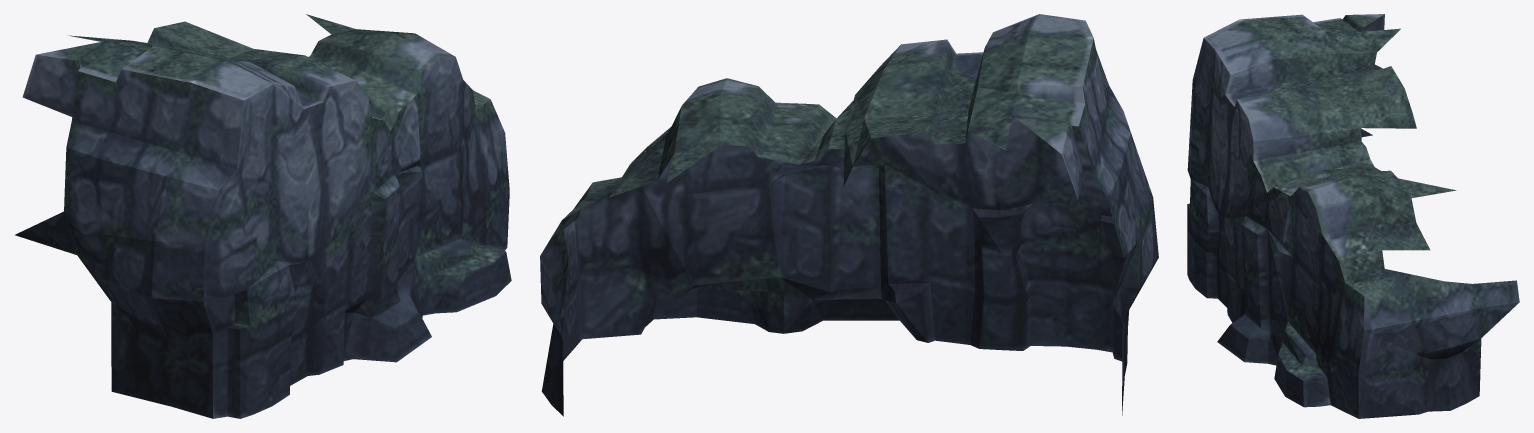
The model's file is cs_lobbynew02_wujian_zhiji_st06.FBX.
3 renders of one model, left to right at view 1: azimuth 30°, elevation 25°; view 2: azimuth 150°, elevation 25°; view 3: azimuth 270°, elevation 25°, orthographic. The views are drawn at different scales.
Visible parts, largest first — view 1: cs_lobbynew02_wujian_zhiji_st06; view 2: cs_lobbynew02_wujian_zhiji_st06; view 3: cs_lobbynew02_wujian_zhiji_st06.
Part boxes in pixels (x1,y1,x2,y2): cs_lobbynew02_wujian_zhiji_st06: [15, 14, 511, 418]; cs_lobbynew02_wujian_zhiji_st06: [540, 14, 1158, 416]; cs_lobbynew02_wujian_zhiji_st06: [1187, 14, 1519, 418].
Bounding box in the file's own units: 1306 × 815 × 981.
